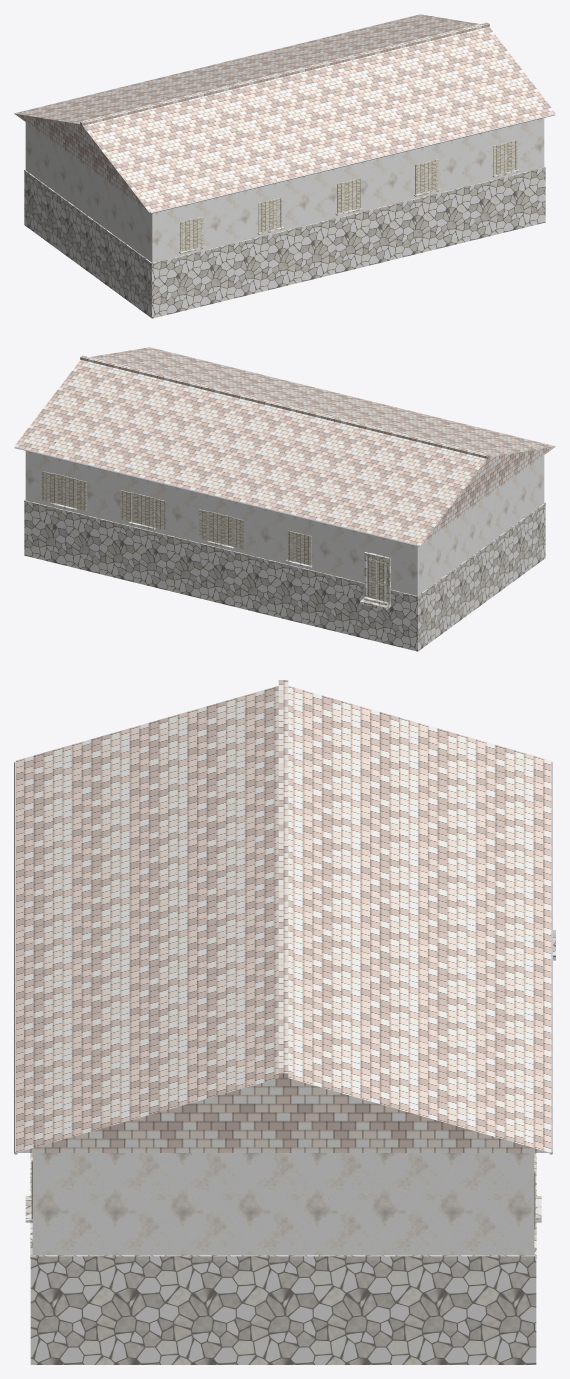
The picture shows the model from 3 angles, top to bottom: view 1: azimuth 30°, elevation 25°; view 2: azimuth 150°, elevation 25°; view 3: azimuth 270°, elevation 25°; orthographic projection. The views are drawn at different scales.
Visible parts, largest first — view 1: b1082825668; view 2: b1082825668; view 3: b1082825668.
Part boxes in pixels (box(x1,y1,x2,y2)): b1082825668: box(14, 14, 555, 318); b1082825668: box(14, 347, 555, 651); b1082825668: box(14, 680, 555, 1364).
Size of the model in its own units: 19.36 by 6.85 by 11.28.
Materials: 15 (15 with a texture image).
